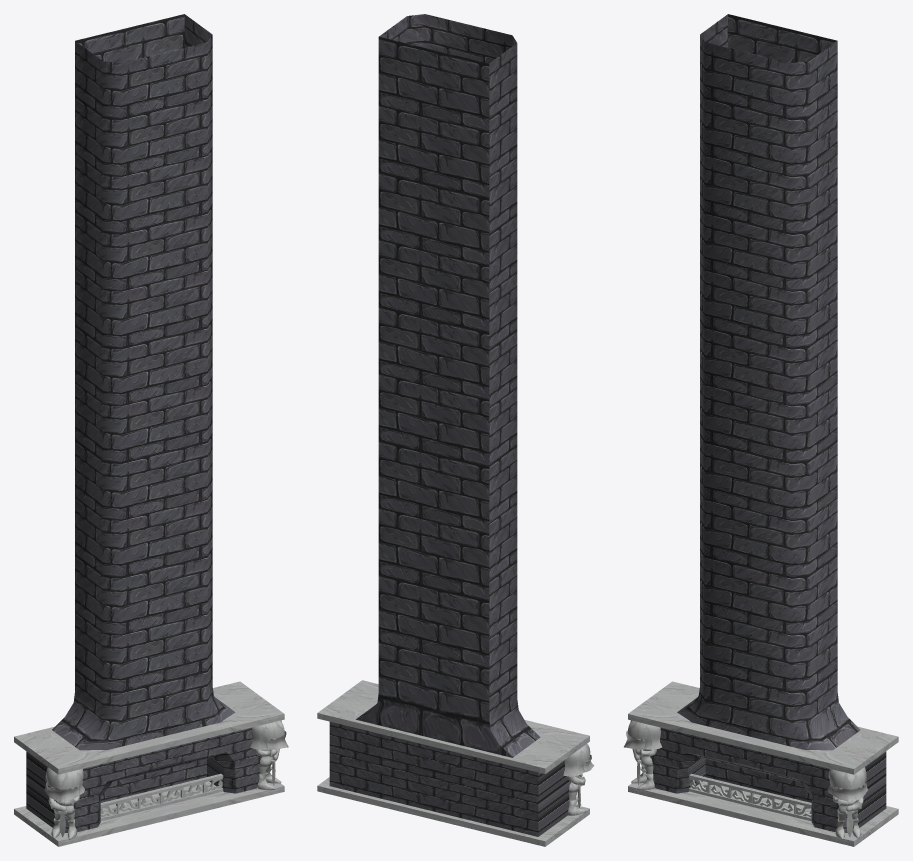
Rendered from e_asset_fireplace_greathall.fbx.
3 views of the same model, side by side, from view 1: azimuth 30°, elevation 25°; view 2: azimuth 150°, elevation 25°; view 3: azimuth 330°, elevation 25° (orthographic).
Visible parts, largest first — view 1: polySurface1007; view 2: polySurface1007; view 3: polySurface1007.
Part boxes in pixels (bbox=[...]): polySurface1007: bbox=[14, 14, 288, 846]; polySurface1007: bbox=[317, 14, 594, 846]; polySurface1007: bbox=[624, 14, 898, 846].
Size of the model in its own units: 6.82 by 21.08 by 2.4.
